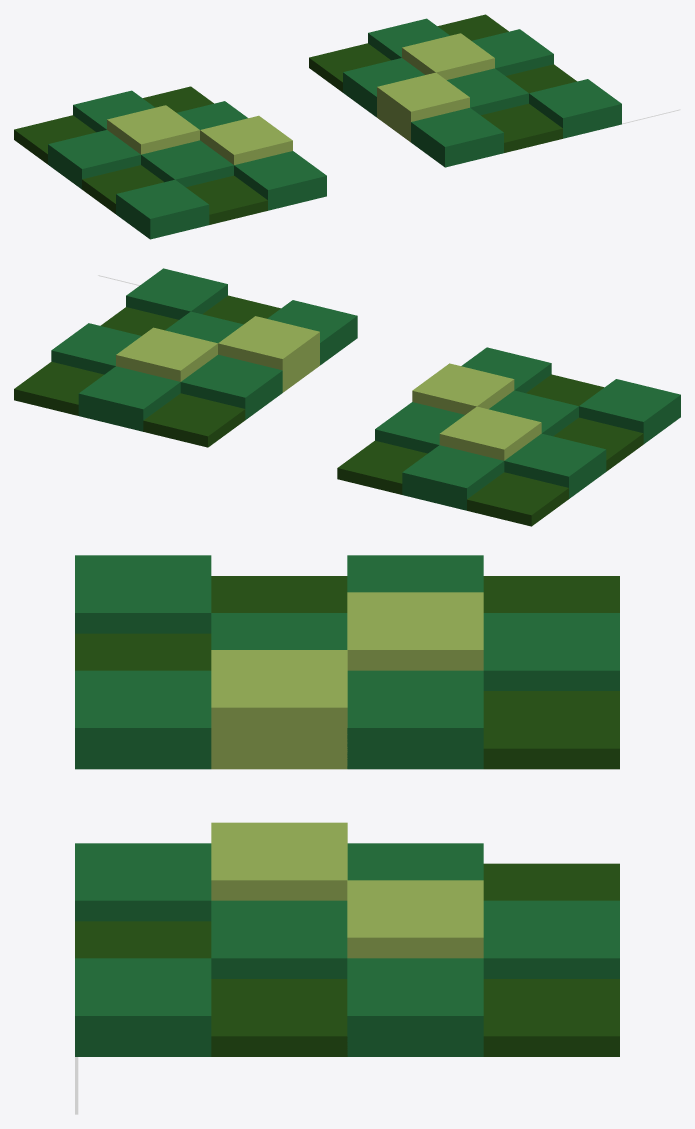
The model's file is foreset.dae.
3 renders of one model, top to bottom at view 1: azimuth 30°, elevation 25°; view 2: azimuth 150°, elevation 25°; view 3: azimuth 270°, elevation 25°, orthographic. The views are drawn at different scales.
Visible parts, largest first — view 1: 主地图; view 2: 主地图; view 3: 主地图.
Boxes of the visible parts, box(x1,y1,x2,y2) form: 主地图: box(14, 14, 680, 239); 主地图: box(14, 268, 680, 526); 主地图: box(75, 555, 619, 1114).
Bounding box in the file's own units: 10.8 × 4.8 × 0.6.
